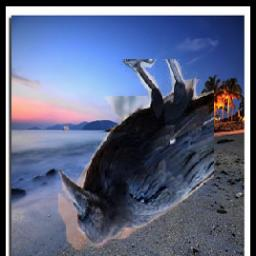Crow: (59, 60, 215, 251)
